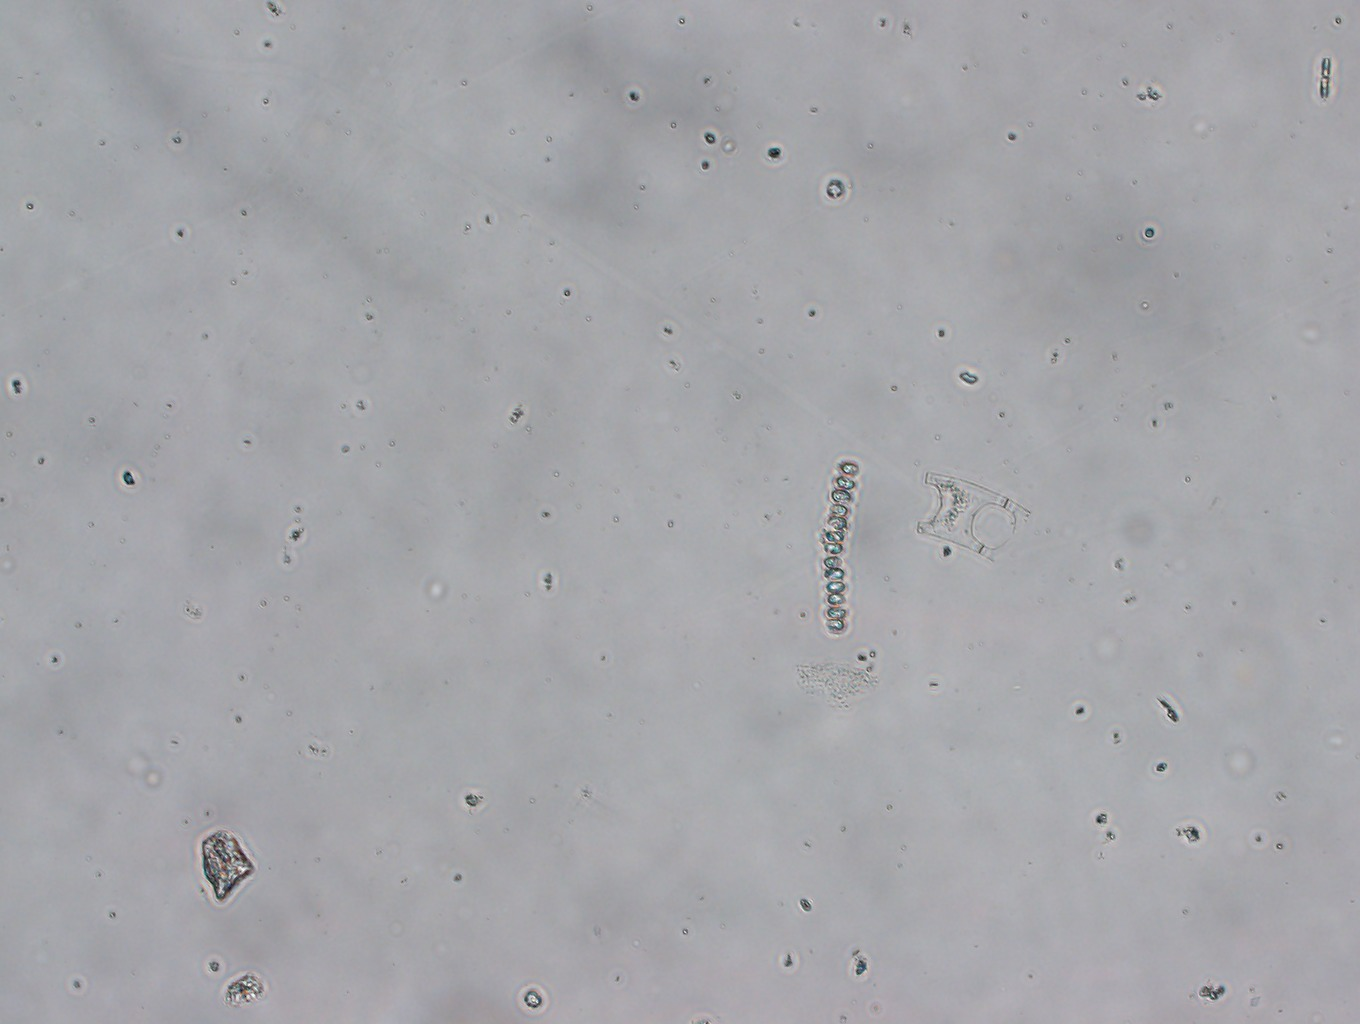eucampia: (922, 469, 1031, 559)
skeletonema: (813, 456, 863, 635)
